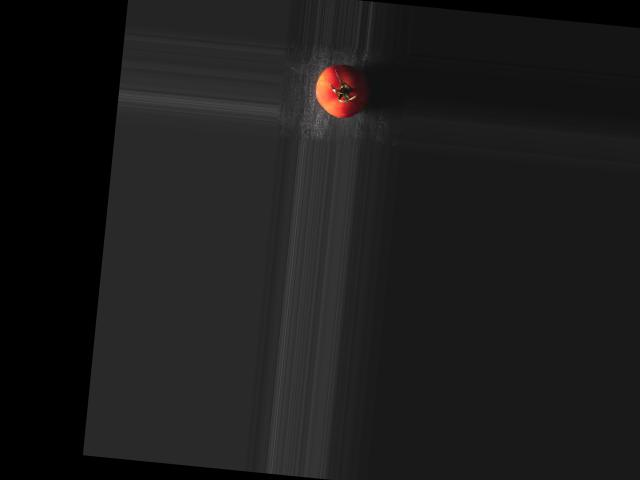tomato: (313, 62, 371, 120)
